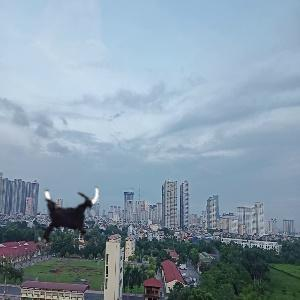drone: (24, 170, 110, 256)
